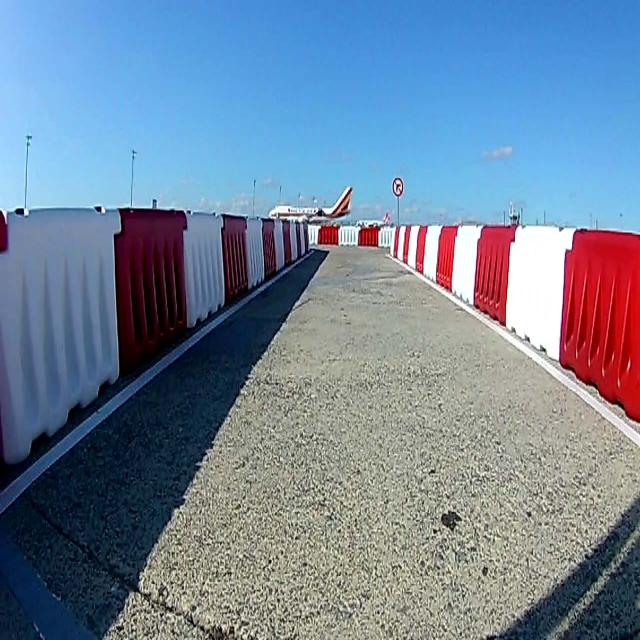sagadonulmez: (392, 176, 404, 196)
